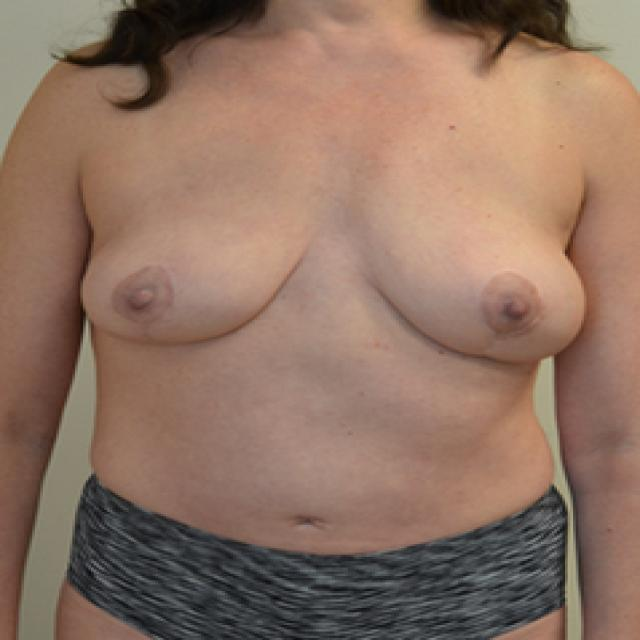Seno herido: (340, 198, 599, 370), (64, 199, 323, 371)
